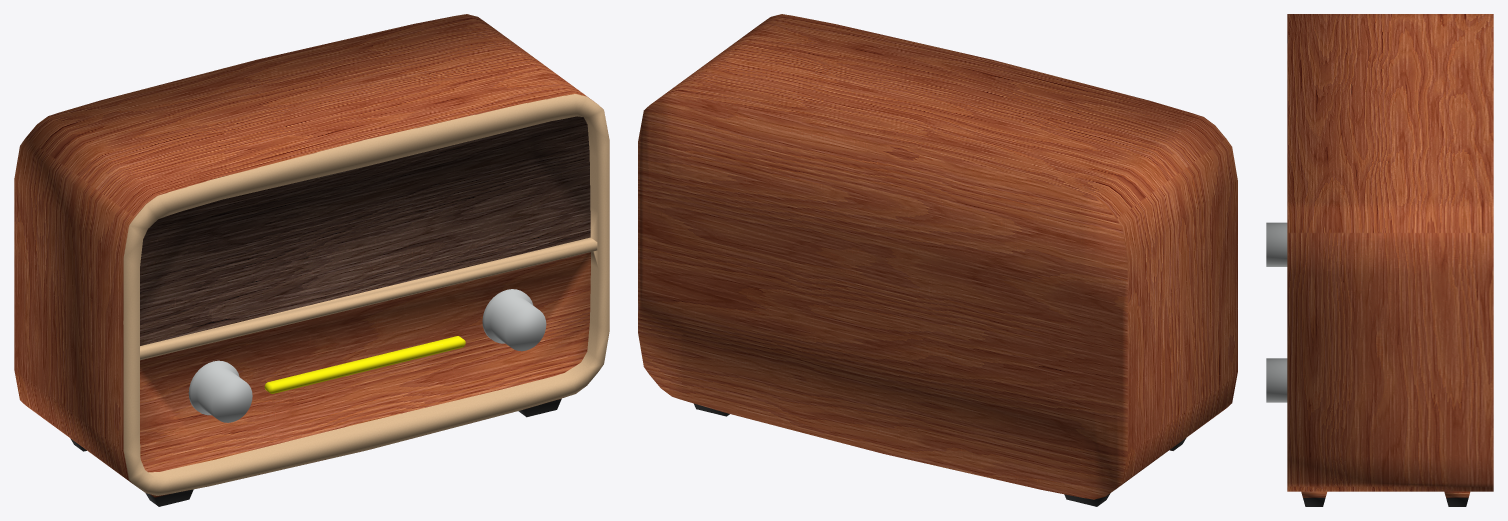
3 views of the same model, side by side, from view 1: azimuth 30°, elevation 25°; view 2: azimuth 150°, elevation 25°; view 3: azimuth 270°, elevation 25° (orthographic). The views are drawn at different scales.
Visible parts, largest first — view 1: LowPolyRadio; view 2: LowPolyRadio; view 3: LowPolyRadio.
Part boxes in pixels (bbox=[...]): LowPolyRadio: bbox=[14, 14, 609, 506]; LowPolyRadio: bbox=[638, 14, 1237, 506]; LowPolyRadio: bbox=[1266, 14, 1493, 506].
Bounding box in the file's own units: 255 × 164 × 109.
Materials: 1 (1 with a texture image).
